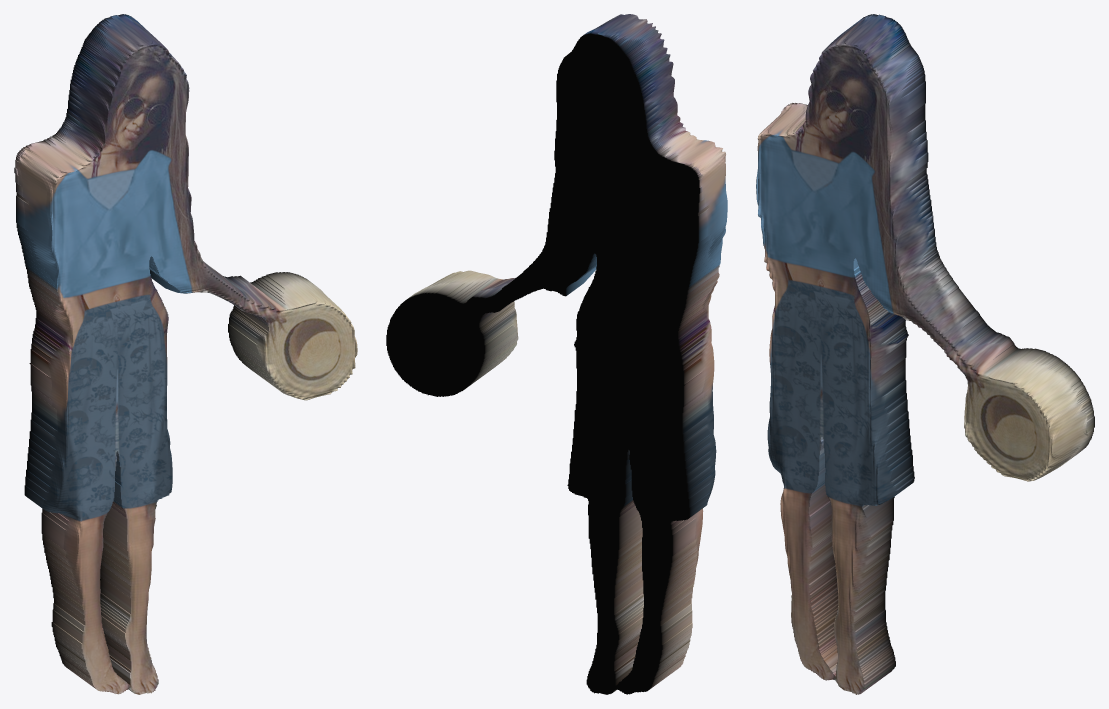
File: avatar_20260410_132248.glb
3 renders of one model, left to right at view 1: azimuth 30°, elevation 25°; view 2: azimuth 150°, elevation 25°; view 3: azimuth 330°, elevation 25°, orthographic.
Parts seen in each view (by area): view 1: world; view 2: world; view 3: world.
Boxes of the visible parts, box(x1,y1,x2,y2) form: world: box(14, 14, 357, 694); world: box(386, 14, 727, 694); world: box(756, 14, 1094, 694).
Size of the model in its own units: 1.22 by 2.45 by 0.2577.
